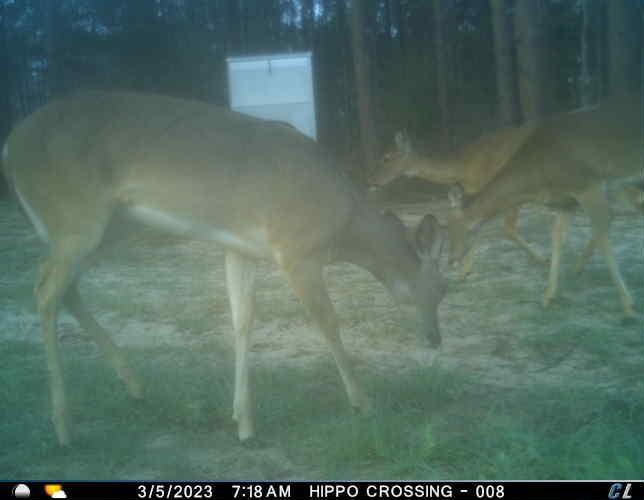Deer: (0, 86, 454, 454), (449, 89, 644, 323), (366, 105, 546, 281)
